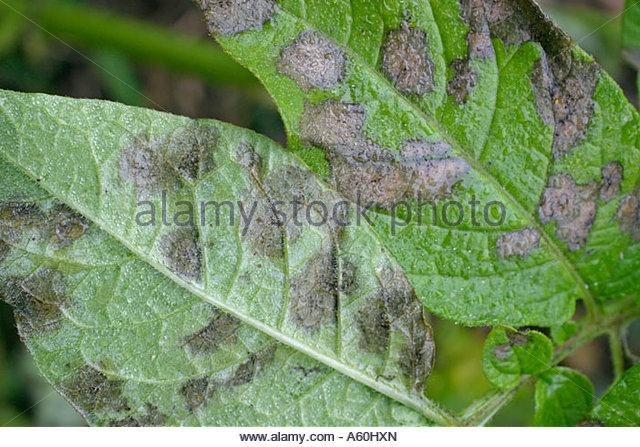Potato leaf late blight: (1, 89, 440, 424), (191, 1, 638, 329)
